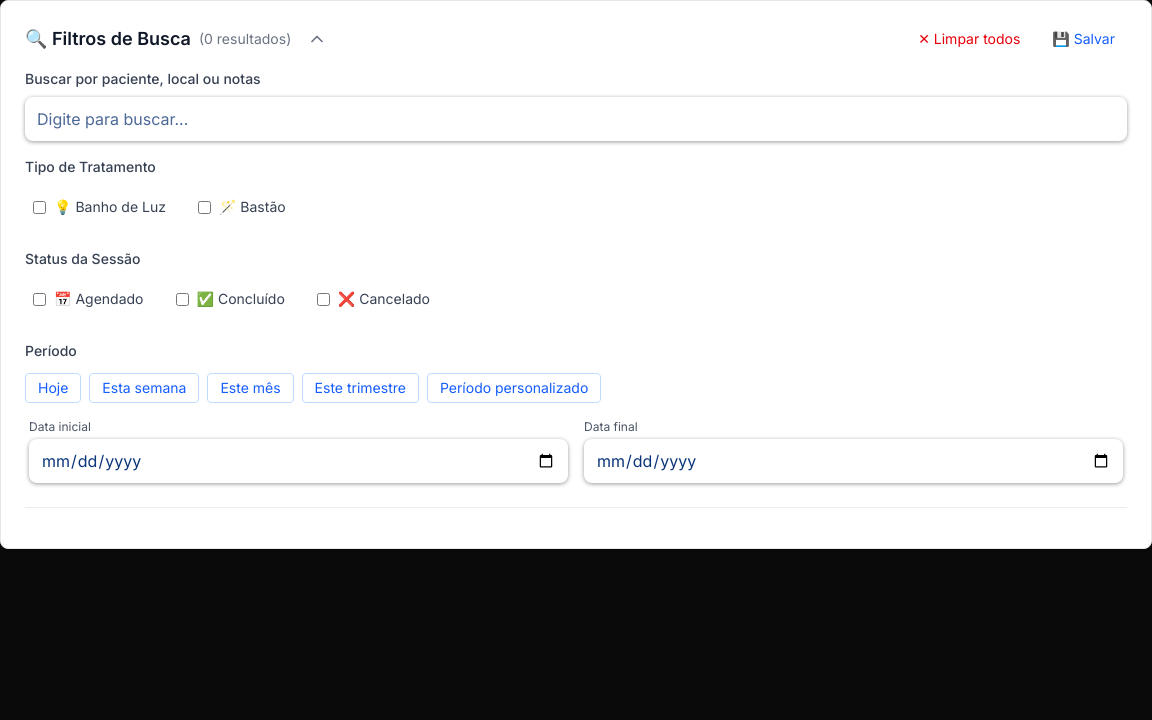
Test case: FilterBar Component › Save preset › should hide save modal when cancelled
The width and height of the screenshot is (1152, 720).
Note: Open modal
Click the button "💾 Salvar" at (1084, 39), box [1040, 25, 1127, 53]
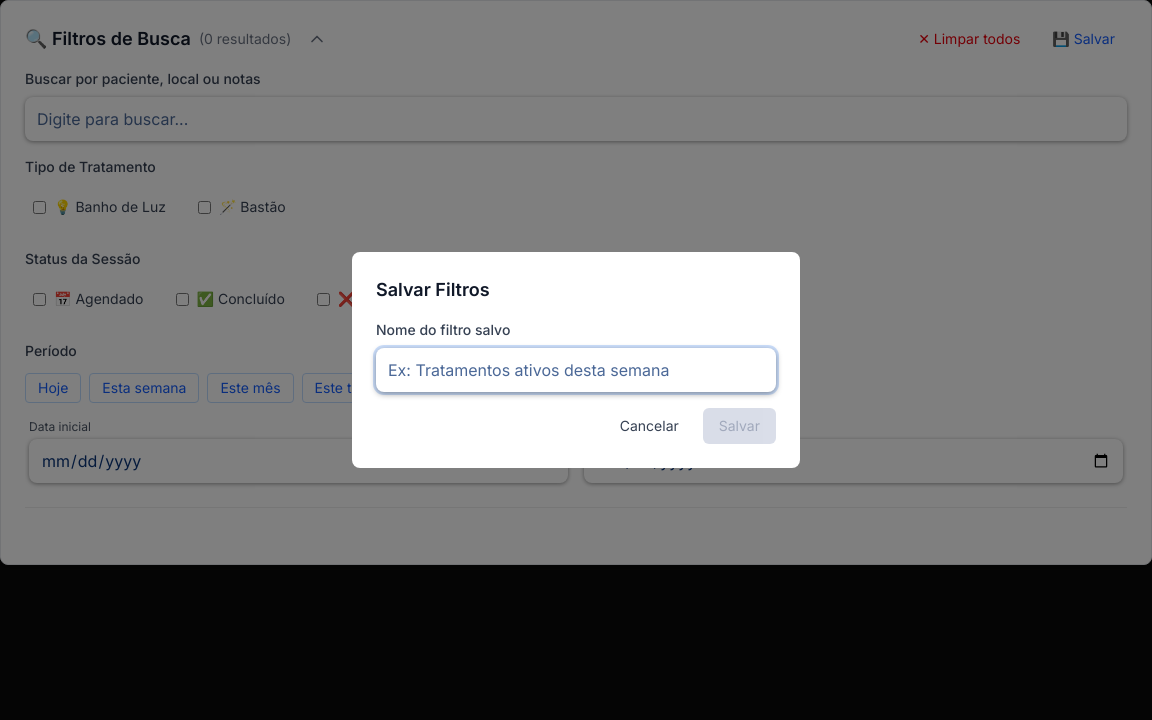
Click the button "Cancelar" at (649, 426), box [604, 408, 695, 444]
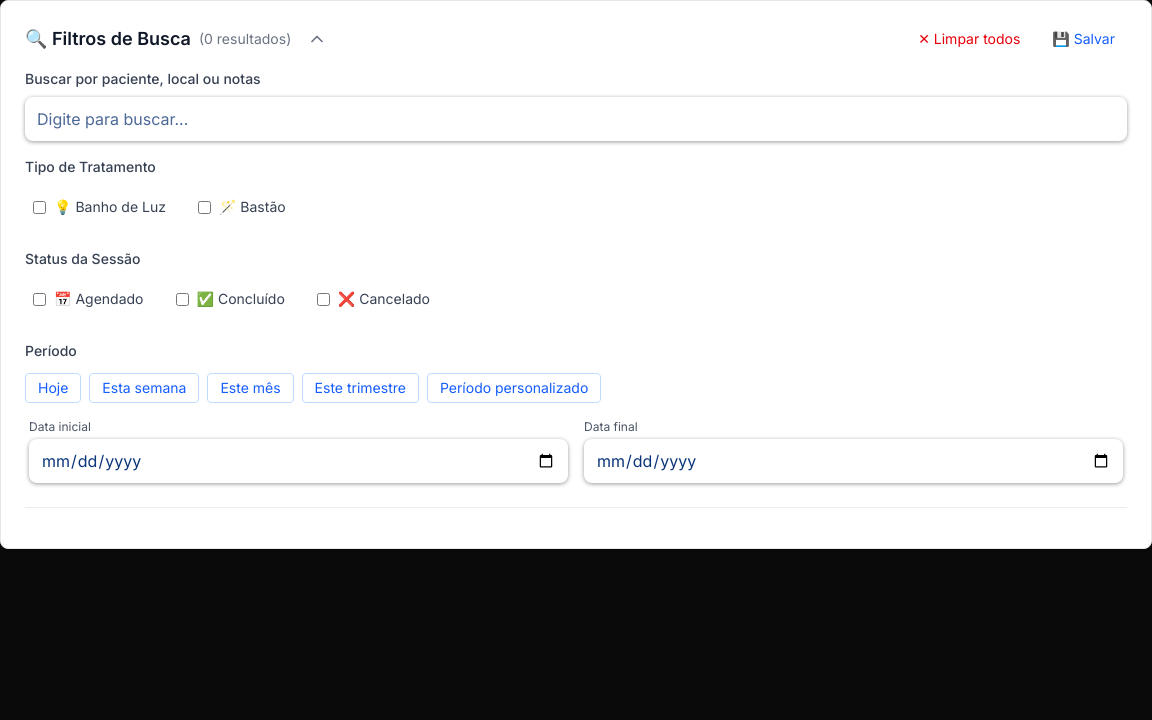
expect the heading "Salvar Filtros" is gone: met
